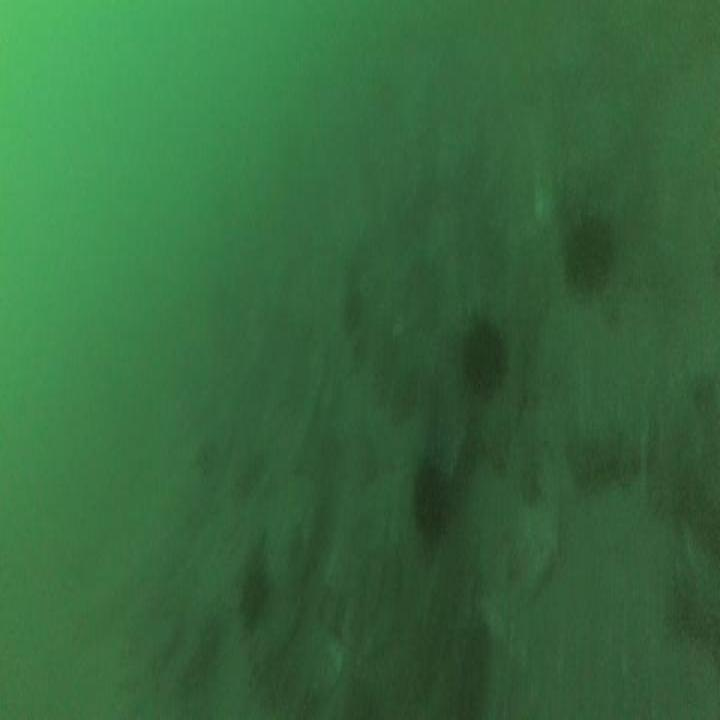echinus: (556, 201, 617, 304), (459, 308, 508, 410), (410, 450, 455, 551), (235, 555, 270, 640)
